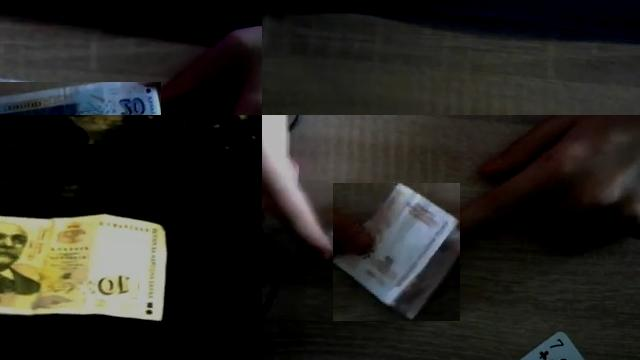10leva: (98, 269, 138, 299)
20leva: (0, 82, 152, 115)
5leva: (333, 183, 460, 321)
